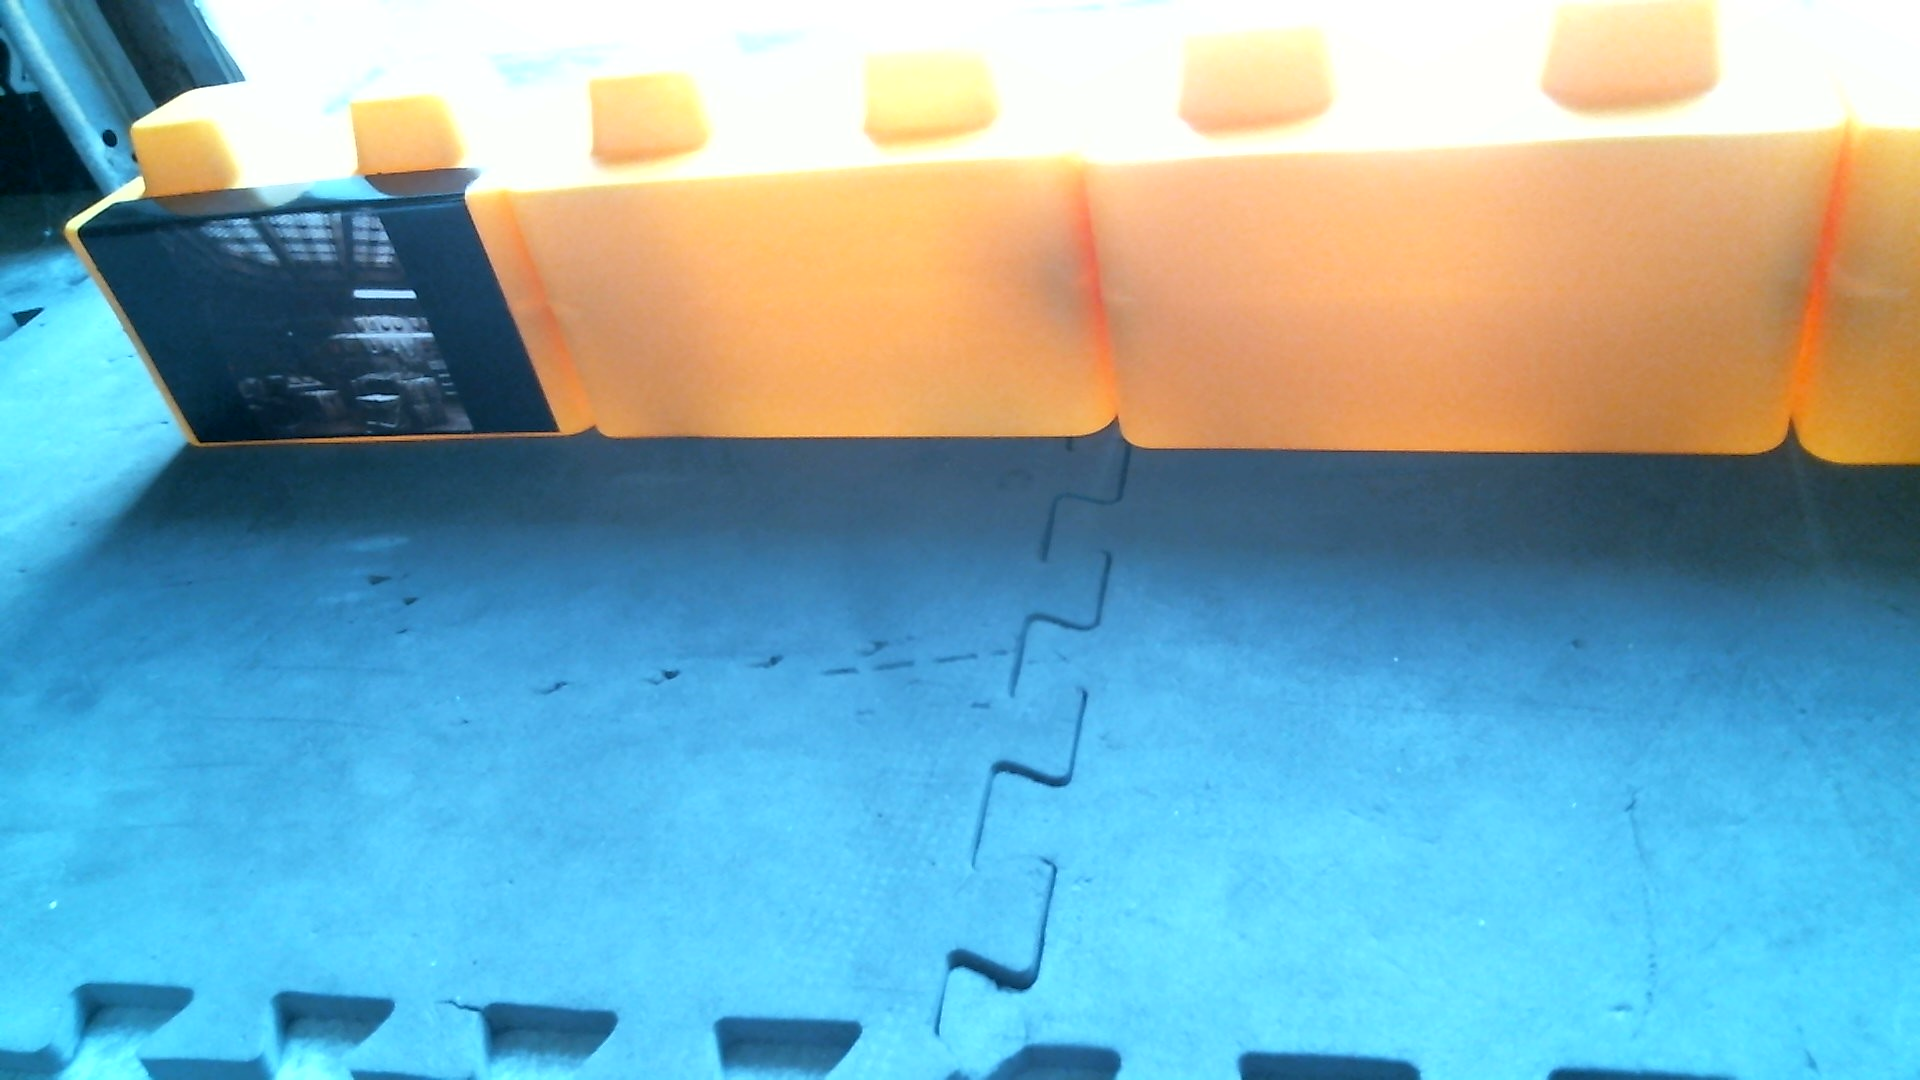left: (66, 3, 1919, 454)
